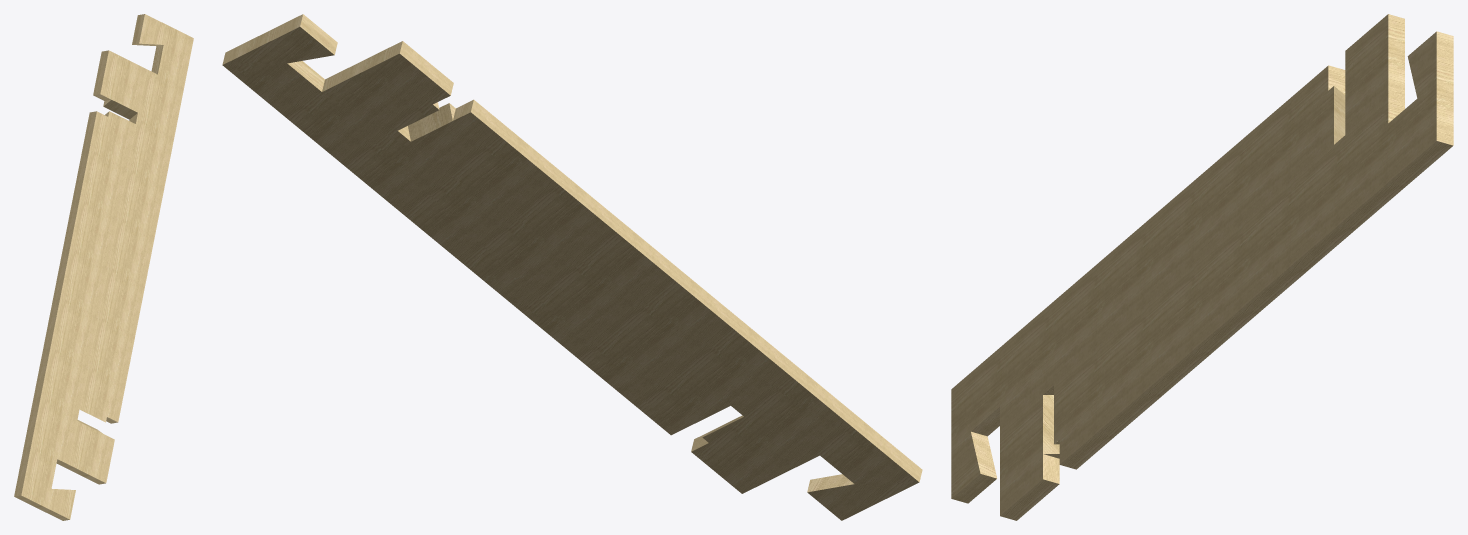
The model's file is papanatap.glb.
3 views of the same model, side by side, from view 1: azimuth 30°, elevation 25°; view 2: azimuth 150°, elevation 25°; view 3: azimuth 270°, elevation 25° (orthographic). The views are drawn at different scales.
Parts seen in each view (by area): view 1: Geom3D; view 2: Geom3D; view 3: Geom3D.
Boxes of the visible parts, left/top/right/bottom form: Geom3D: left=14, top=14, right=193, bottom=520; Geom3D: left=222, top=14, right=922, bottom=520; Geom3D: left=951, top=14, right=1453, bottom=520.
Size of the model in its own units: 0.6691 by 0.7499 by 0.5173.
Materials: 1 (1 with a texture image).
